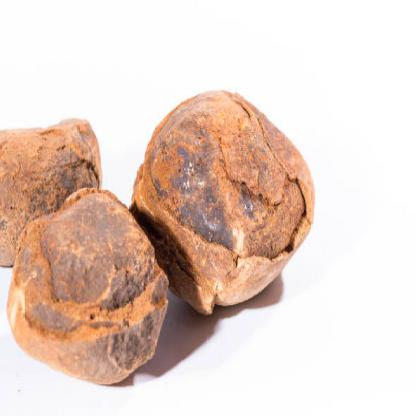Sedimentary_Limestone: (175, 121, 268, 280), (32, 231, 123, 369), (1, 127, 50, 247)
